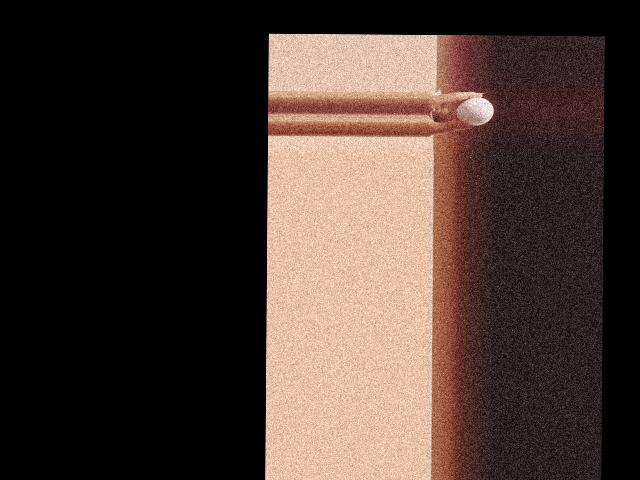egg: (455, 97, 493, 126)
